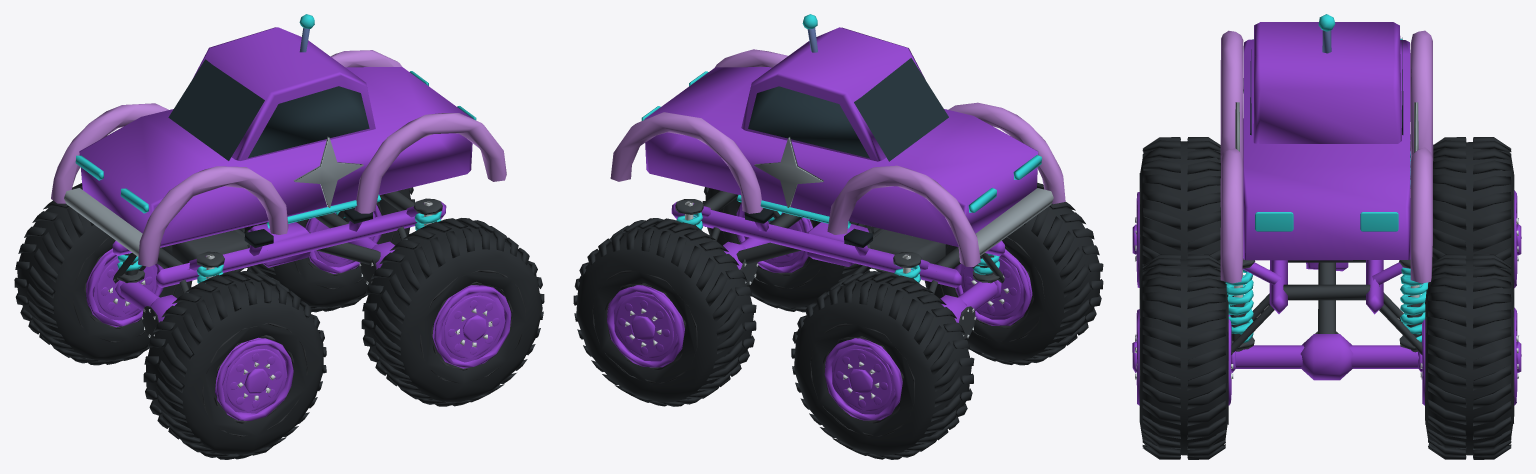
The model's file is RocketRumble_LOD1.fbx.
3 views of the same model, side by side, from view 1: azimuth 30°, elevation 25°; view 2: azimuth 150°, elevation 25°; view 3: azimuth 270°, elevation 25° (orthographic). The views are drawn at different scales.
Visible parts, largest first — view 1: RocketRumble_LOD1_sprung_body_Geometry, RocketRumble_LOD1_FL_Spin_Geometry, RocketRumble_LOD1_RL_Spin_Geometry, RocketRumble_LOD1_FR_Spin_Geometry, RocketRumble_LOD1_RR_Spin_Geometry, RocketRumble_LOD1_FRONT_axle_Geometry, RocketRumble_LOD1_Root_Geometry, RocketRumble_LOD1_REAR_axle_Geometry, RocketRumble_LOD1_REAR_shock_-1_Geometry, RocketRumble_LOD1_FRONT_shock_-1_Geometry; view 2: RocketRumble_LOD1_sprung_body_Geometry, RocketRumble_LOD1_RR_Spin_Geometry, RocketRumble_LOD1_FR_Spin_Geometry, RocketRumble_LOD1_FL_Spin_Geometry, RocketRumble_LOD1_RL_Spin_Geometry, RocketRumble_LOD1_FRONT_axle_Geometry, RocketRumble_LOD1_Root_Geometry, RocketRumble_LOD1_REAR_axle_Geometry, RocketRumble_LOD1_FRONT_shock_1_Geometry, RocketRumble_LOD1_REAR_shock_1_Geometry; view 3: RocketRumble_LOD1_sprung_body_Geometry, RocketRumble_LOD1_RR_Spin_Geometry, RocketRumble_LOD1_RL_Spin_Geometry, RocketRumble_LOD1_FR_Spin_Geometry, RocketRumble_LOD1_FL_Spin_Geometry, RocketRumble_LOD1_REAR_axle_Geometry, RocketRumble_LOD1_Root_Geometry, RocketRumble_LOD1_REAR_shock_-1_Geometry, RocketRumble_LOD1_REAR_shock_1_Geometry.
Boxes of the visible parts, x1,y1,x2,y2 form: RocketRumble_LOD1_sprung_body_Geometry: (51, 14, 506, 287); RocketRumble_LOD1_FL_Spin_Geometry: (143, 271, 326, 459); RocketRumble_LOD1_RL_Spin_Geometry: (361, 218, 544, 406); RocketRumble_LOD1_FR_Spin_Geometry: (14, 183, 192, 365); RocketRumble_LOD1_RR_Spin_Geometry: (239, 187, 414, 312); RocketRumble_LOD1_FRONT_axle_Geometry: (120, 282, 176, 338); RocketRumble_LOD1_Root_Geometry: (113, 210, 407, 293); RocketRumble_LOD1_REAR_axle_Geometry: (348, 237, 394, 285); RocketRumble_LOD1_REAR_shock_-1_Geometry: (413, 198, 442, 230); RocketRumble_LOD1_FRONT_shock_-1_Geometry: (196, 251, 224, 283); RocketRumble_LOD1_sprung_body_Geometry: (610, 14, 1065, 287); RocketRumble_LOD1_RR_Spin_Geometry: (573, 218, 756, 406); RocketRumble_LOD1_FR_Spin_Geometry: (791, 271, 974, 459); RocketRumble_LOD1_FL_Spin_Geometry: (923, 182, 1103, 365); RocketRumble_LOD1_RL_Spin_Geometry: (702, 187, 879, 312); RocketRumble_LOD1_FRONT_axle_Geometry: (940, 281, 997, 338); RocketRumble_LOD1_Root_Geometry: (695, 210, 1004, 293); RocketRumble_LOD1_REAR_axle_Geometry: (723, 237, 769, 285); RocketRumble_LOD1_FRONT_shock_1_Geometry: (893, 252, 921, 283); RocketRumble_LOD1_REAR_shock_1_Geometry: (675, 199, 703, 229); RocketRumble_LOD1_sprung_body_Geometry: (1220, 14, 1433, 314); RocketRumble_LOD1_RR_Spin_Geometry: (1418, 254, 1521, 459); RocketRumble_LOD1_RL_Spin_Geometry: (1132, 254, 1235, 459); RocketRumble_LOD1_FR_Spin_Geometry: (1422, 137, 1521, 291); RocketRumble_LOD1_FL_Spin_Geometry: (1132, 137, 1220, 288); RocketRumble_LOD1_REAR_axle_Geometry: (1235, 331, 1418, 380); RocketRumble_LOD1_Root_Geometry: (1231, 262, 1422, 354); RocketRumble_LOD1_REAR_shock_-1_Geometry: (1225, 258, 1255, 350); RocketRumble_LOD1_REAR_shock_1_Geometry: (1399, 259, 1428, 350).
Size of the model in its own units: 516 by 460 by 414.
